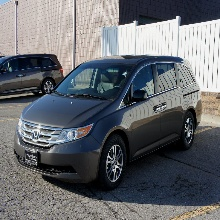no damage: (13, 55, 202, 189), (1, 52, 65, 97)
